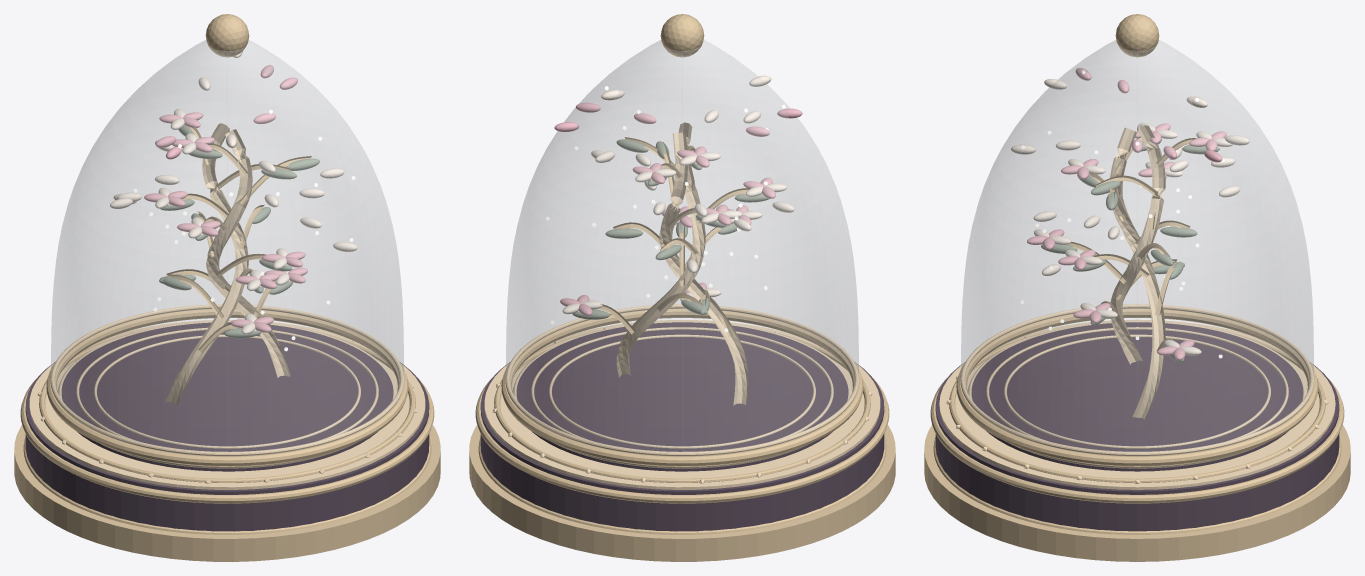
The model's file is relicario-ar.glb.
The picture shows the model from 3 angles, left to right: view 1: azimuth 30°, elevation 25°; view 2: azimuth 150°, elevation 25°; view 3: azimuth 270°, elevation 25°; orthographic projection.
Parts seen in each view (by area): view 1: crystal_cloche, world; view 2: crystal_cloche, world; view 3: crystal_cloche, world.
Part boxes in pixels (box(x1,y1,x2,y2)): crystal_cloche: box(51, 40, 403, 456); world: box(14, 14, 440, 561); crystal_cloche: box(506, 40, 858, 456); world: box(469, 14, 895, 561); crystal_cloche: box(961, 40, 1313, 456); world: box(924, 14, 1350, 561).
Size of the model in its own units: 0.4 by 0.4717 by 0.4.
